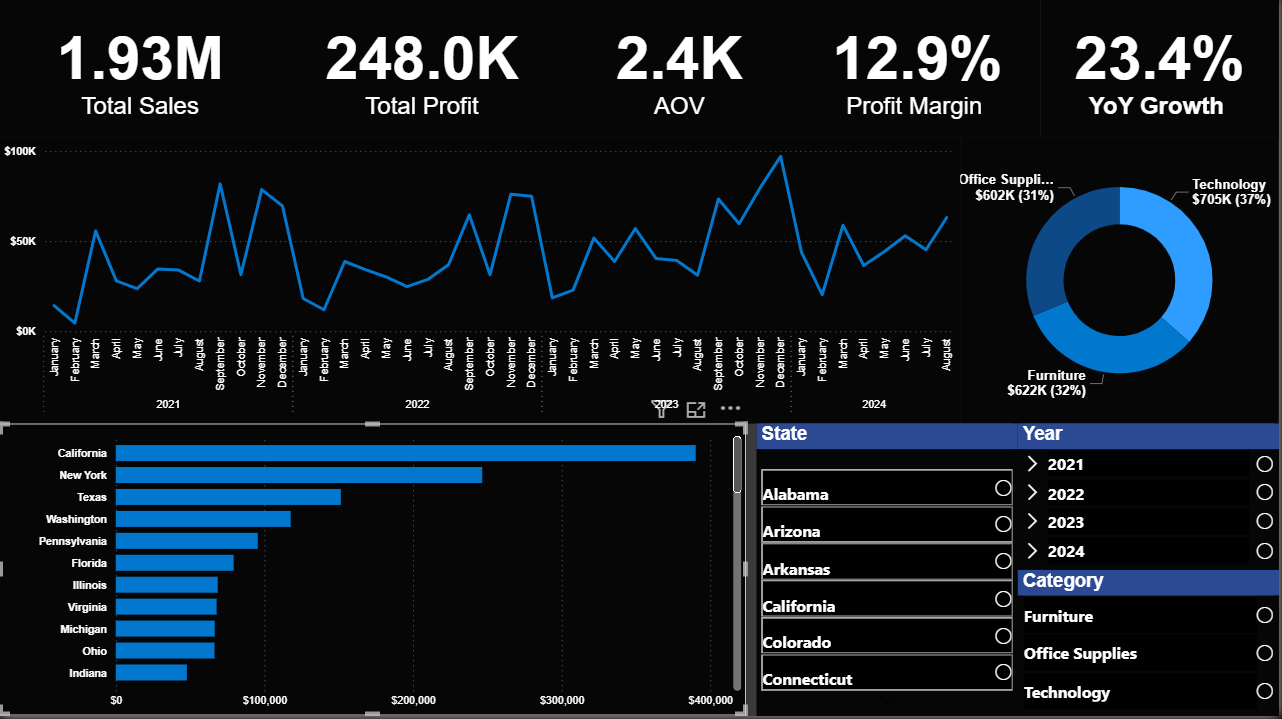

Layout of this report page (visuals, bound fields, positions):
{"tool":"powerbi","page":{"name":"Sales Dashboard","canvas":[1280,720],"ordinal":0},"visuals":[{"type":"card","fields":{"Values":["Data.Total Sales"]},"box":[0,0,282.9,141.4],"z":0},{"type":"card","fields":{"Values":["Data.Total Profit"]},"box":[282.9,0,281.4,141.4],"z":1000},{"type":"card","fields":{"Values":["Data.Profit Margin %"]},"box":[796.2,0,245,141.2],"z":2000},{"type":"card","fields":{"Values":["Data.AOV"]},"box":[563.8,0,233.8,141.2],"z":3000},{"type":"card","fields":{"Values":["Data.YoY Growth %"]},"box":[1041.3,0,239.2,141.3],"z":4000},{"type":"lineChart","fields":{"Y":["Sum(Data.Sales)"],"Category":["Data.Order Date.Variation.Date Hierarchy.Year","Data.Order Date.Variation.Date Hierarchy.Month"]},"box":[0,141.2,953.8,286.2],"z":5000},{"type":"donutChart","fields":{"Category":["Data.Category"],"Y":["Sum(Data.Sales)"]},"box":[953.5,141.3,327,285.9],"z":6000},{"type":"barChart","fields":{"Y":["Sum(Data.Sales)"],"Category":["Data.State"]},"box":[0,427.5,710,292.5],"z":7000},{"type":"listSlicer","fields":{"Values":["Data.State"]},"box":[710,427.5,268.8,292.5],"z":8000},{"type":"listSlicer","fields":{"Values":["Data.Category"]},"box":[978.8,573.8,301.2,146.2],"z":9000},{"type":"listSlicer","fields":{"Values":["Data.Order Date.Variation.Date Hierarchy.Year","Data.Order Date.Variation.Date Hierarchy.Quarter"]},"box":[978.8,427.5,301.2,146.2],"z":10000}]}

Visuals, with their boxes in screenshot pixels (x1, y1, x2, y2), scaled from the page's 1280x720 canvas onto the 1282x719 screenshot:
card - Data.Total Sales: bbox=(0, 0, 283, 141)
card - Data.Total Profit: bbox=(283, 0, 565, 141)
card - Data.Profit Margin %: bbox=(797, 0, 1043, 141)
card - Data.AOV: bbox=(565, 0, 799, 141)
card - Data.YoY Growth %: bbox=(1043, 0, 1281, 141)
lineChart - Sum(Data.Sales) x Data.Order Date.Variation.Date Hierarchy.Year: bbox=(0, 141, 955, 427)
donutChart - Data.Category x Sum(Data.Sales): bbox=(955, 141, 1281, 427)
barChart - Sum(Data.Sales) x Data.State: bbox=(0, 427, 711, 718)
listSlicer - Data.State: bbox=(711, 427, 980, 718)
listSlicer - Data.Category: bbox=(980, 573, 1281, 718)
listSlicer - Data.Order Date.Variation.Date Hierarchy.Year x Data.Order Date.Variation.Date Hierarchy.Quarter: bbox=(980, 427, 1281, 573)
